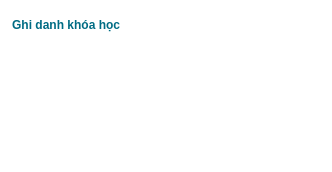
Scenario: enrolls only after a signed-in student confirms
Click the button "Ghi danh khóa học" at [66, 25], box [12,16,120,34]
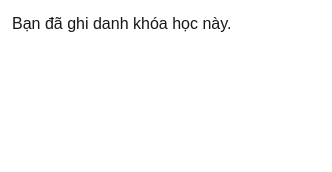
Expected: the message reads "Bạn đã ghi danh khóa học này.", [12,15,231,32]
